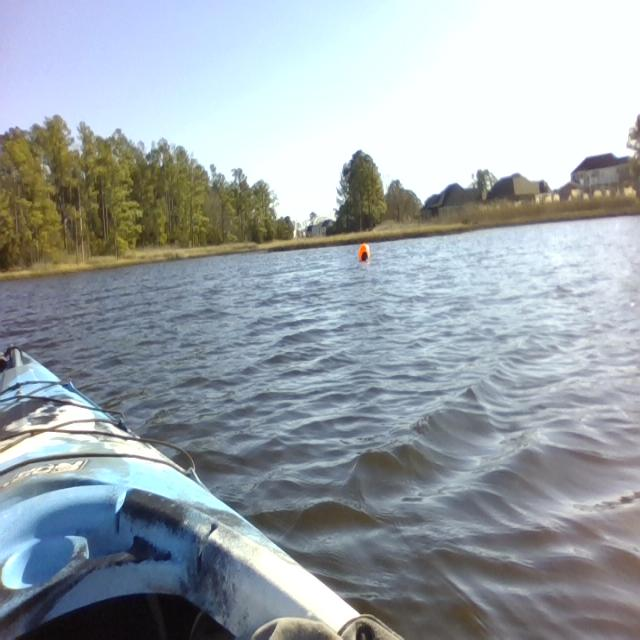Buoy: (348, 237, 376, 272)
